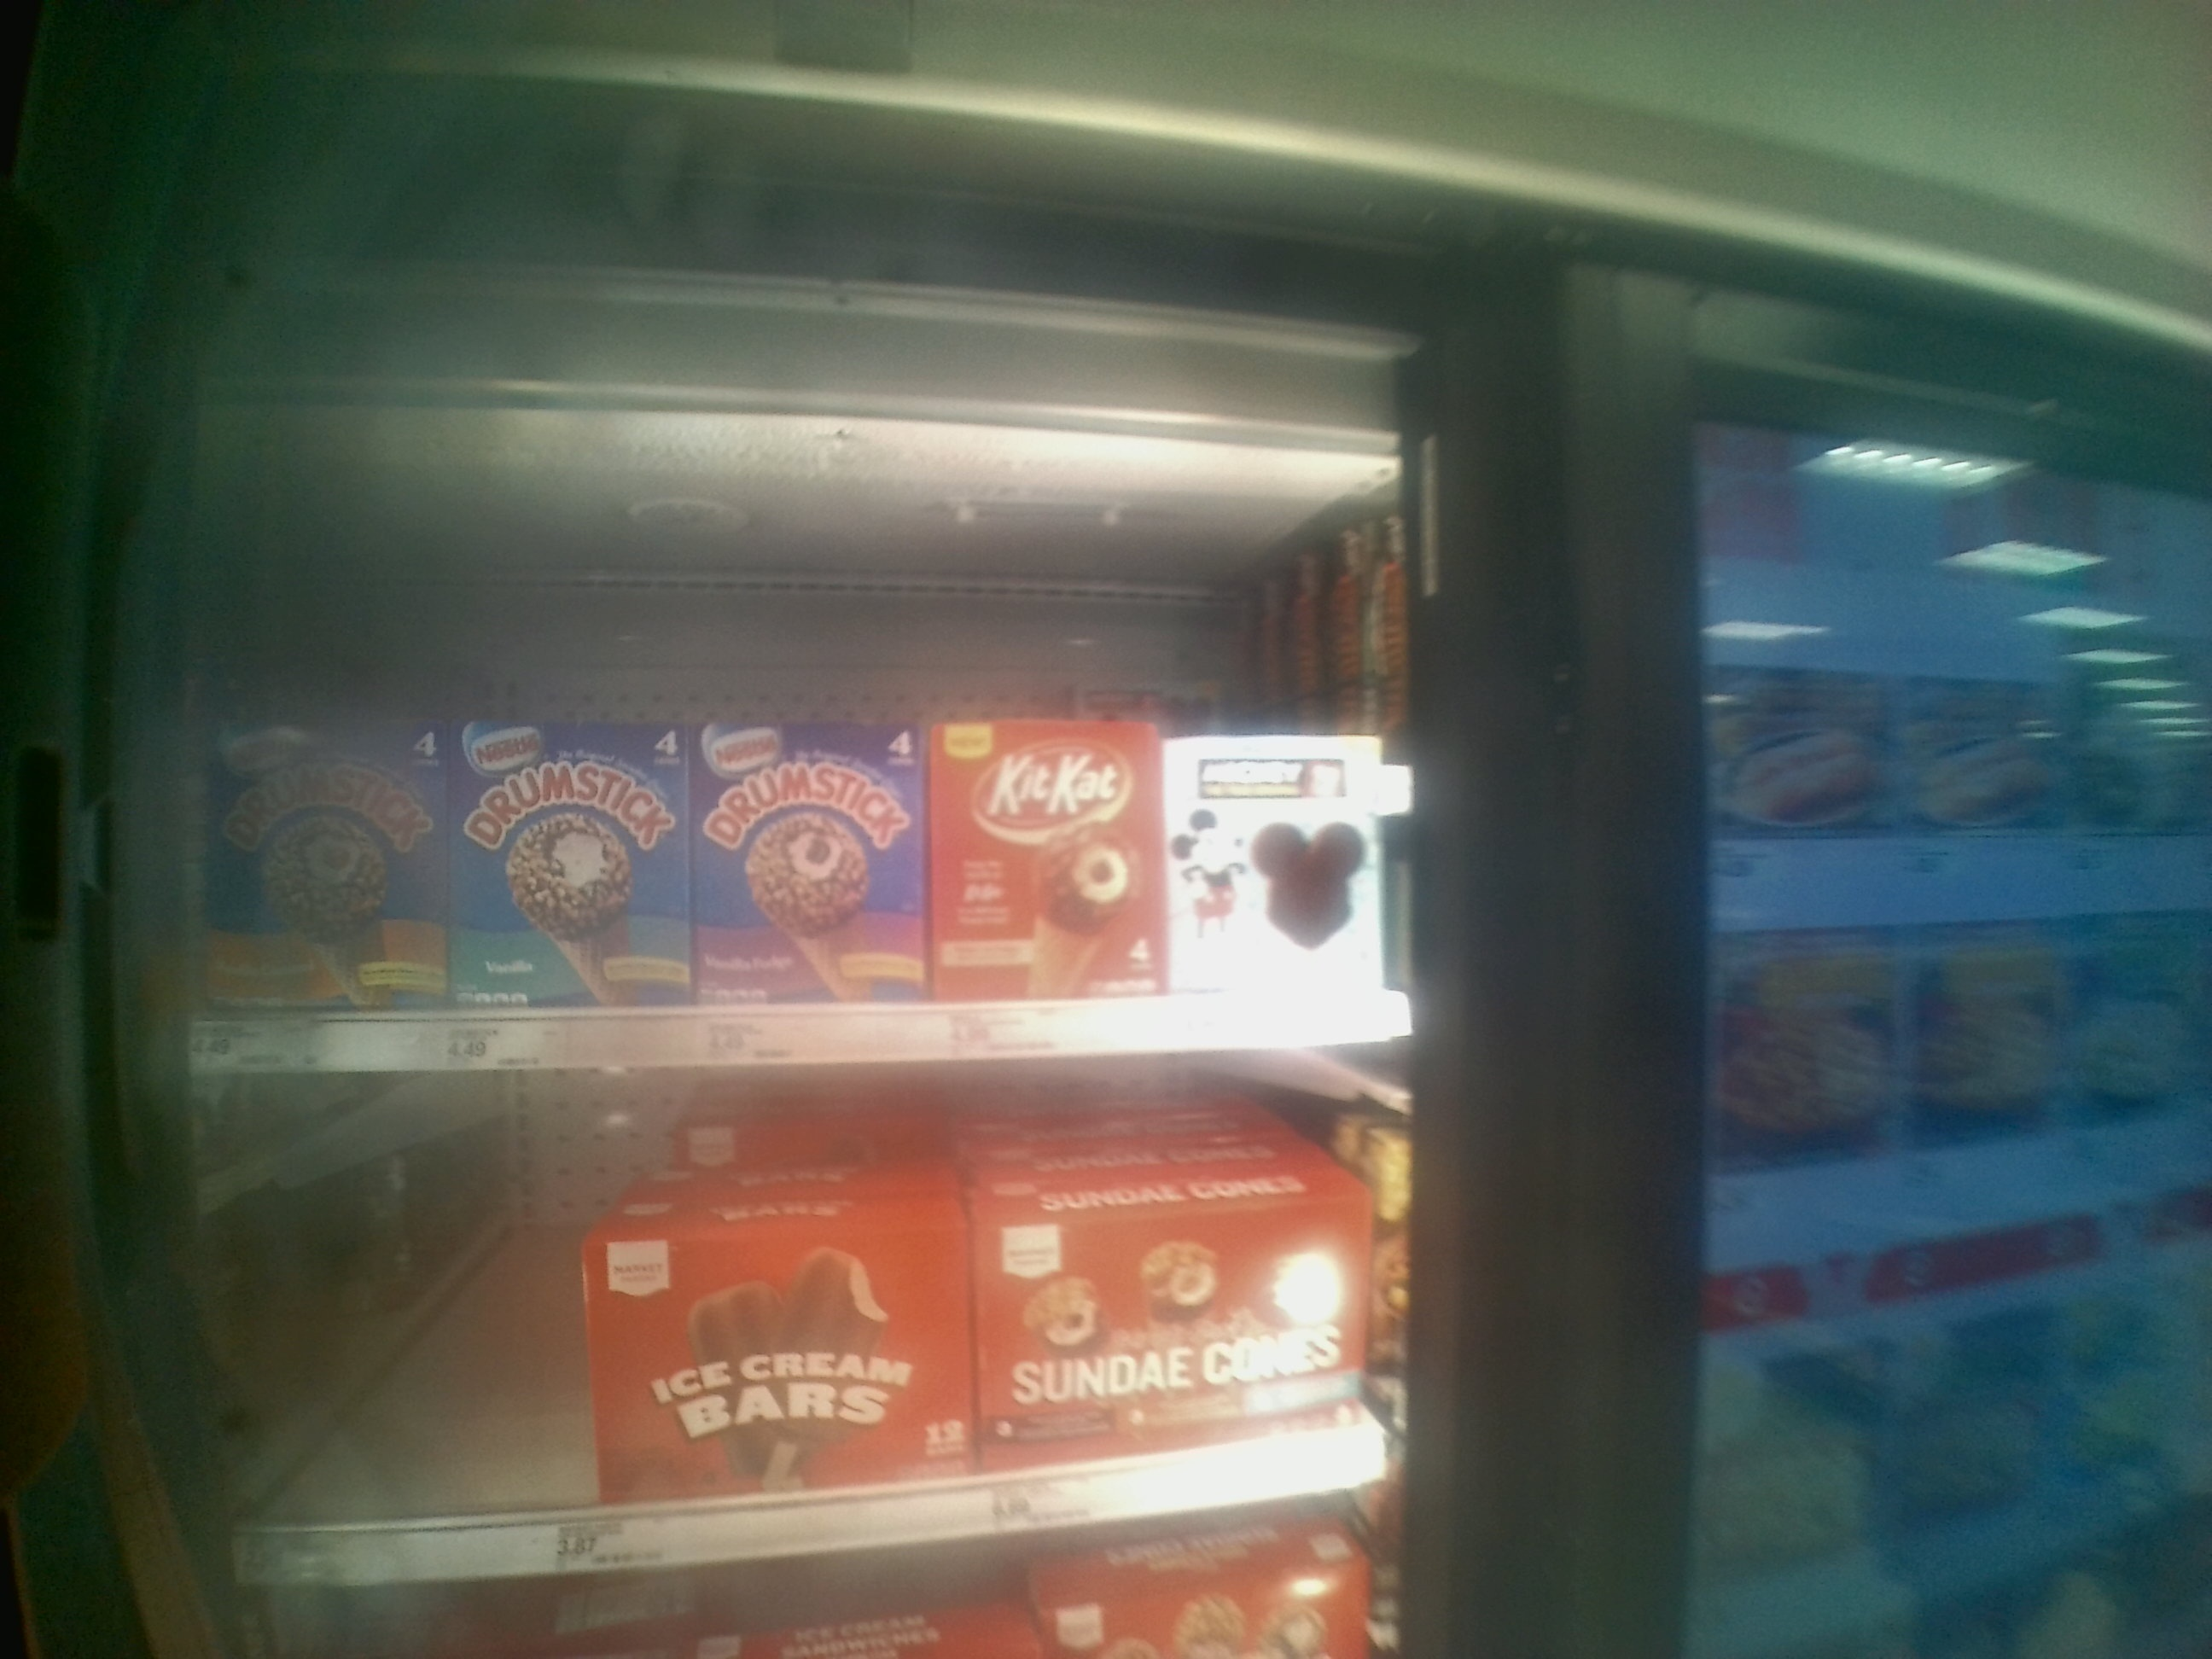shelf: (200, 368, 1423, 1033), (204, 1033, 1439, 1530)
